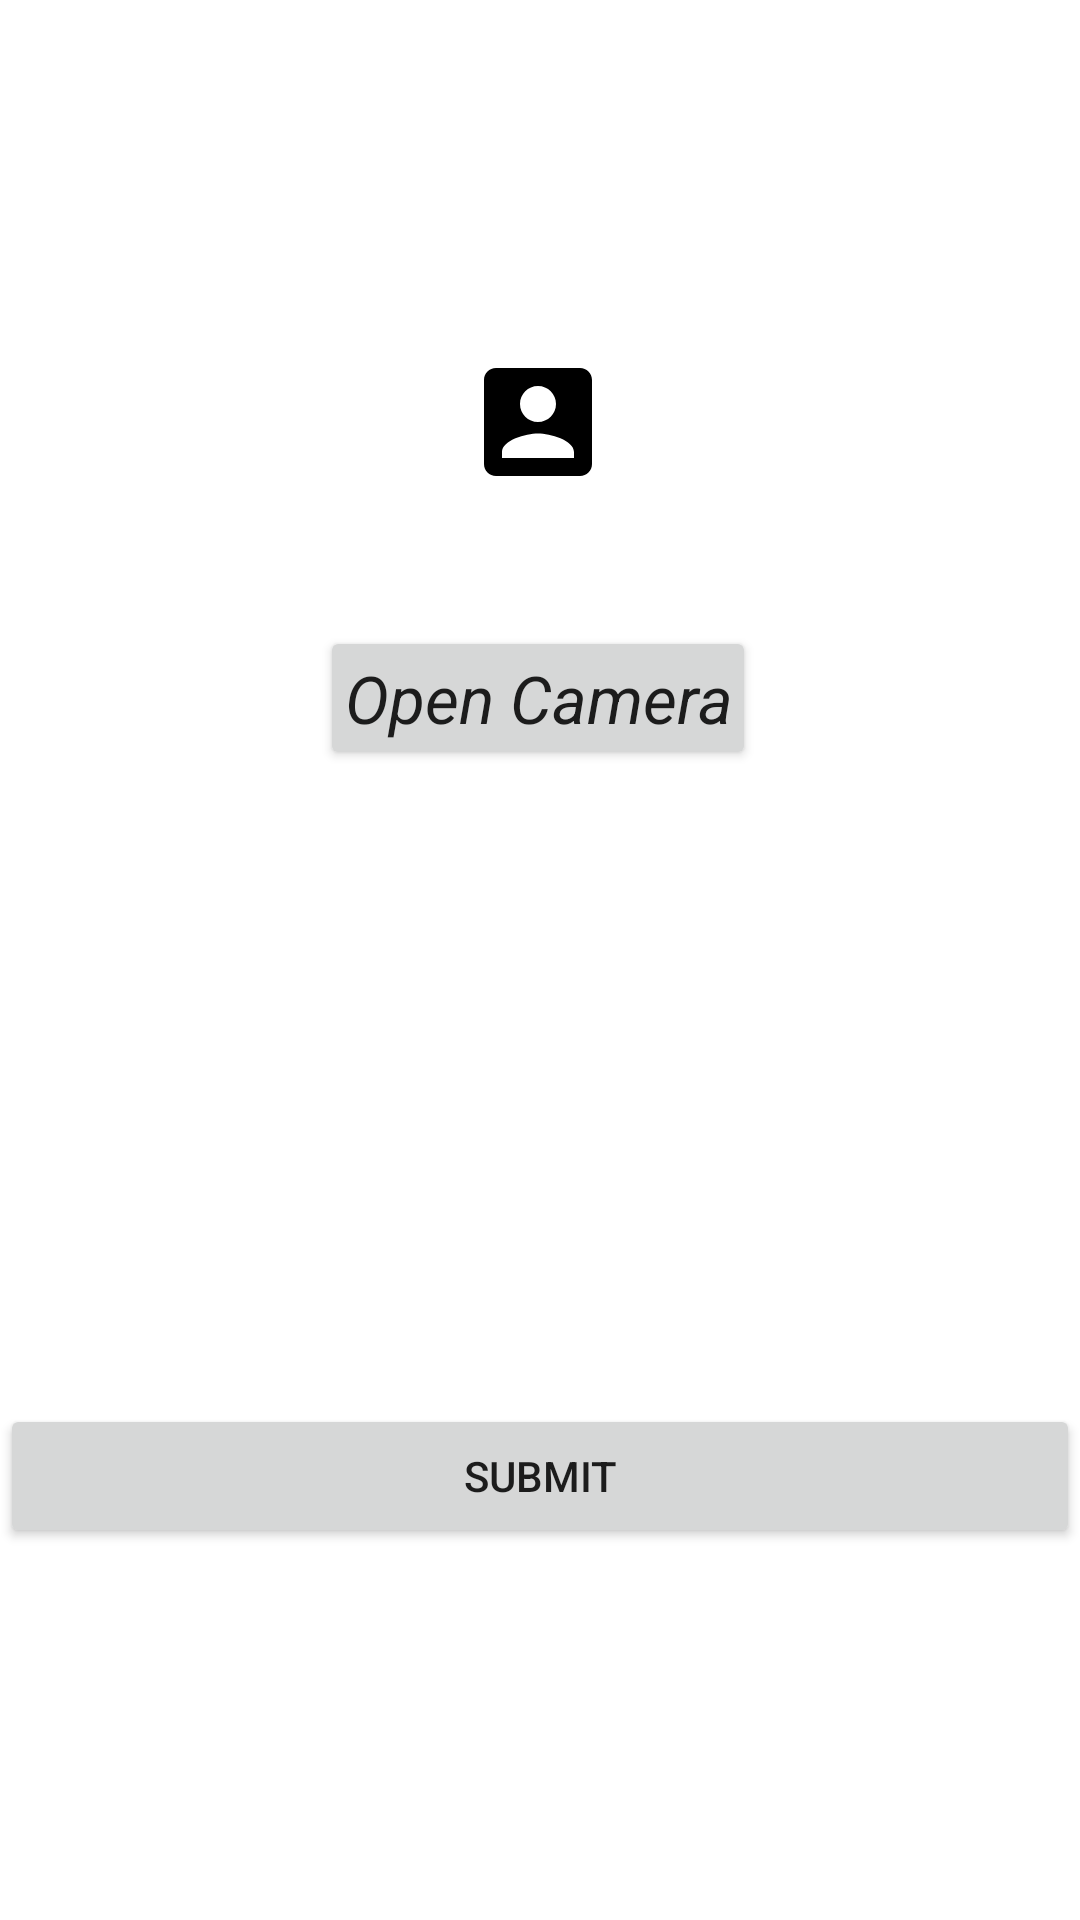

Screen size 1080px×1920px. Icon name, then its center in pixels as [x,y]:
account box: [538,422]
